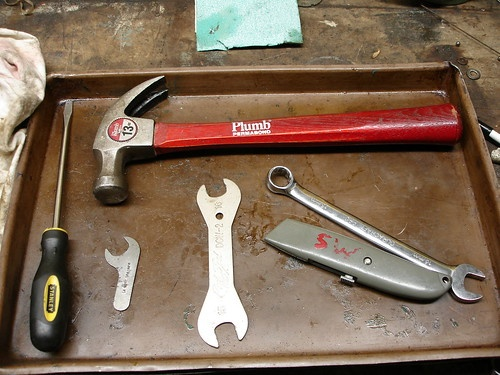hammer: (93, 73, 462, 203)
